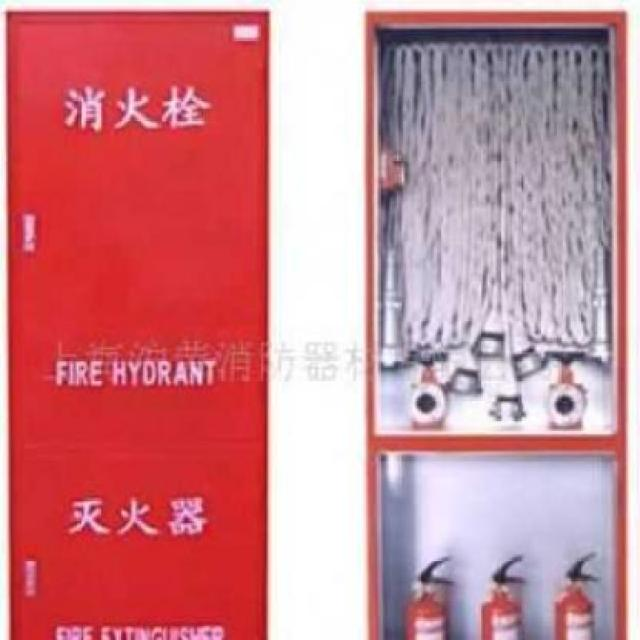firehydrant: (2, 3, 274, 639), (358, 4, 630, 640)
